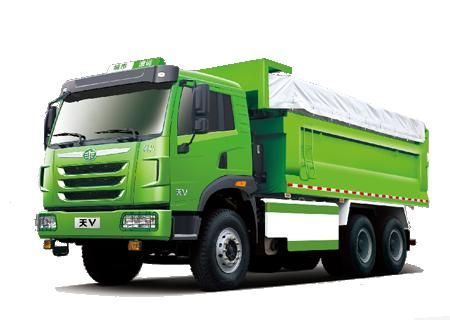truck: (33, 41, 433, 293)
